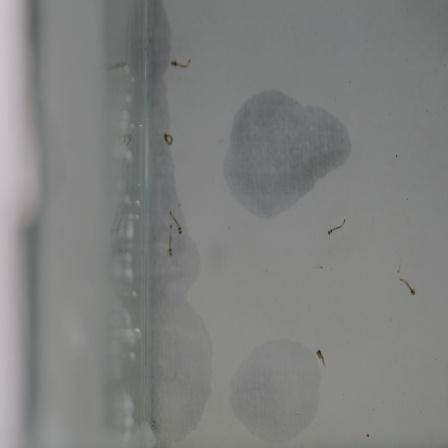Jentik-Nyamuk: (164, 206, 190, 261), (394, 263, 417, 301), (323, 213, 351, 238), (313, 346, 330, 373), (160, 125, 179, 149)
